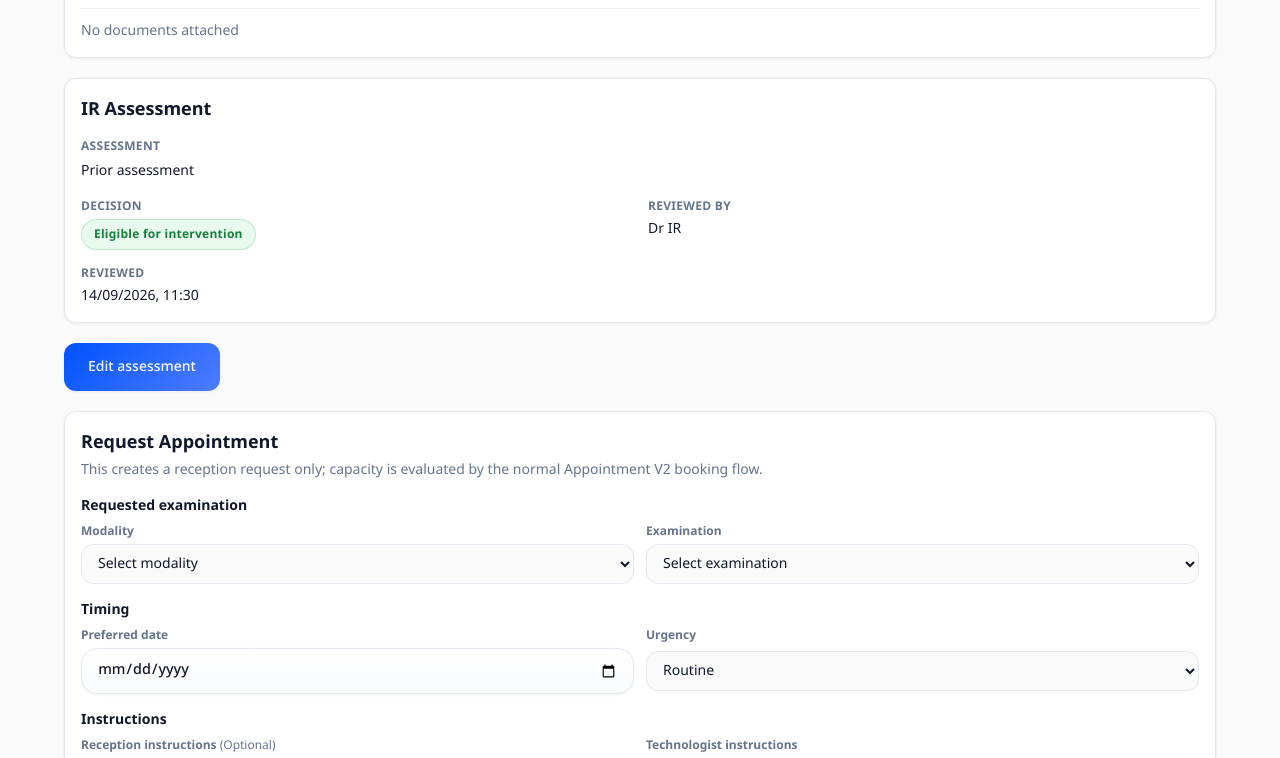
Scenario: IR referral detail page › uses the saved values after a successful decision edit
This screenshot has width=1280, height=758.
(page scrolled)
Click the button "Edit assessment" at (142, 367), box 64,343 -> 220,391
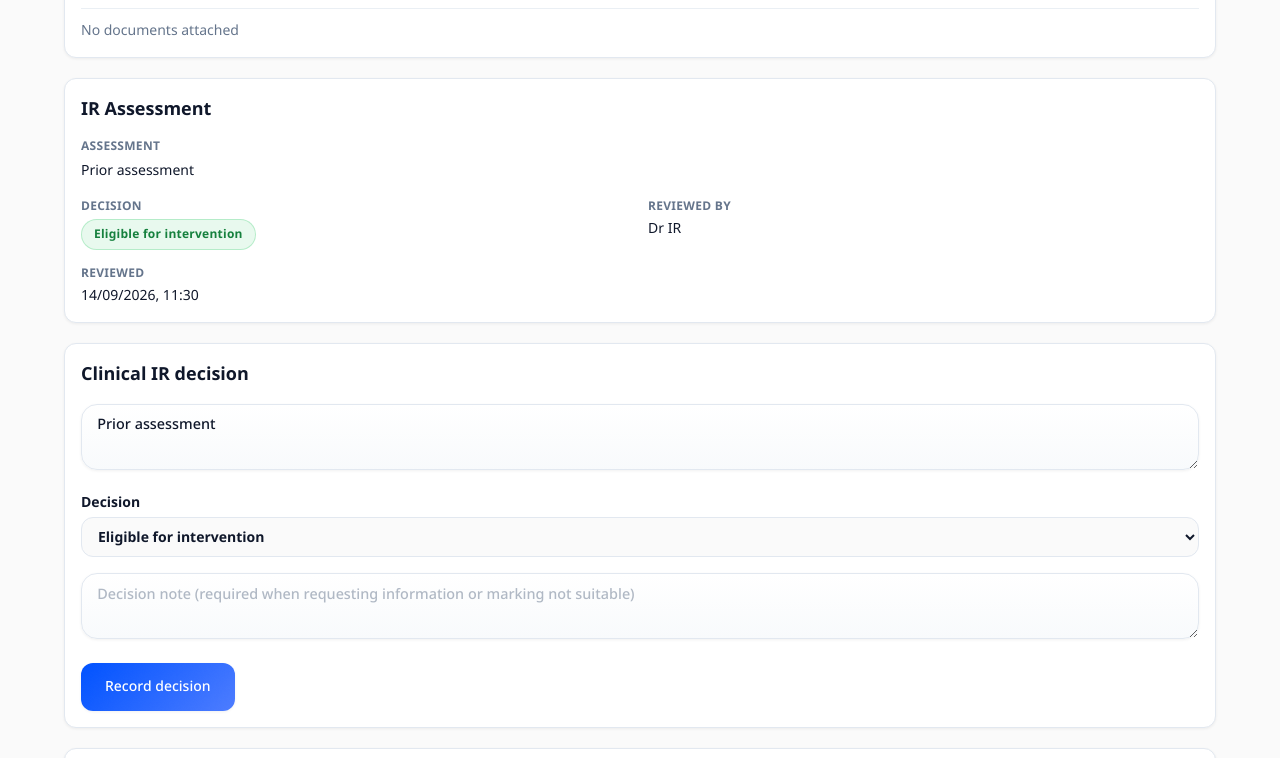
Click the button "Record decision" at (158, 687), box 81,663 -> 234,711
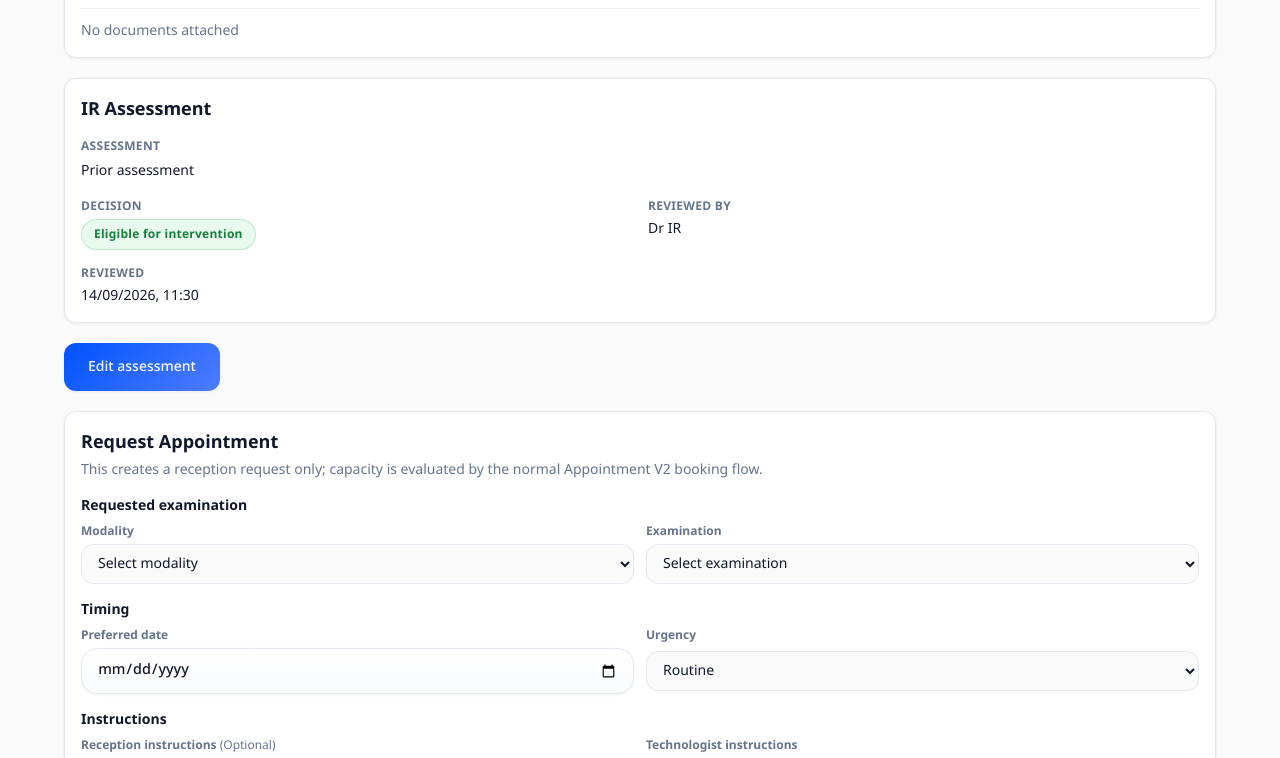
Check: the heading "IR Assessment" is shown, box 81,90 -> 211,128
Check: the heading "Clinical IR decision" is gone
